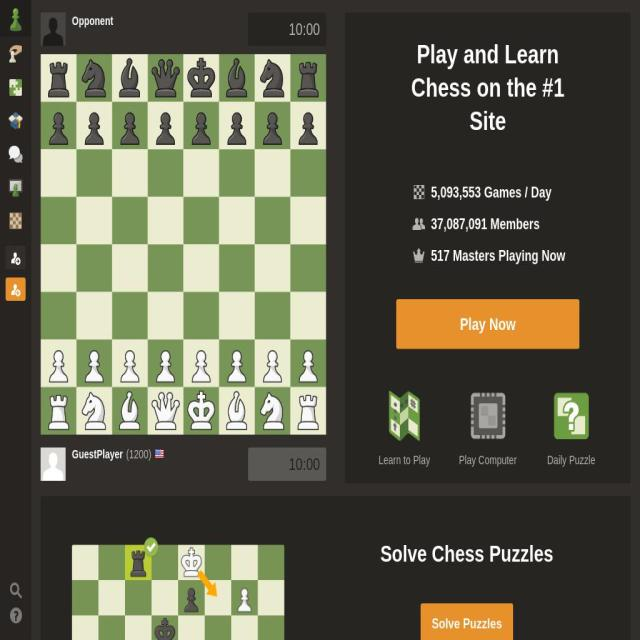button: (396, 299, 580, 349), (456, 391, 520, 467), (373, 391, 436, 467), (540, 391, 602, 467), (420, 603, 514, 640), (0, 0, 31, 37), (6, 277, 26, 301), (6, 246, 26, 269)
heading: (390, 38, 586, 138), (380, 538, 554, 570)
image: (41, 54, 326, 435), (71, 537, 284, 640), (469, 391, 507, 441), (552, 391, 590, 441), (386, 391, 423, 441), (40, 12, 66, 46), (40, 447, 66, 481), (154, 447, 165, 461)
link: (0, 37, 31, 71), (0, 104, 31, 138), (0, 137, 31, 171), (0, 204, 31, 238), (0, 71, 31, 104), (0, 171, 31, 204), (6, 602, 31, 628)
text: (248, 12, 326, 46), (248, 447, 326, 481), (430, 247, 566, 266), (431, 184, 552, 203), (431, 216, 540, 234), (458, 453, 518, 467), (378, 453, 430, 467), (547, 453, 596, 467), (72, 13, 114, 29), (72, 448, 123, 460), (6, 577, 26, 603), (126, 448, 152, 460)
